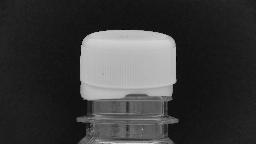Loose Cap: (73, 74, 181, 128)
